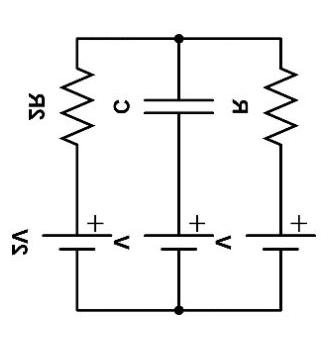Capacitor: (139, 71, 222, 141)
